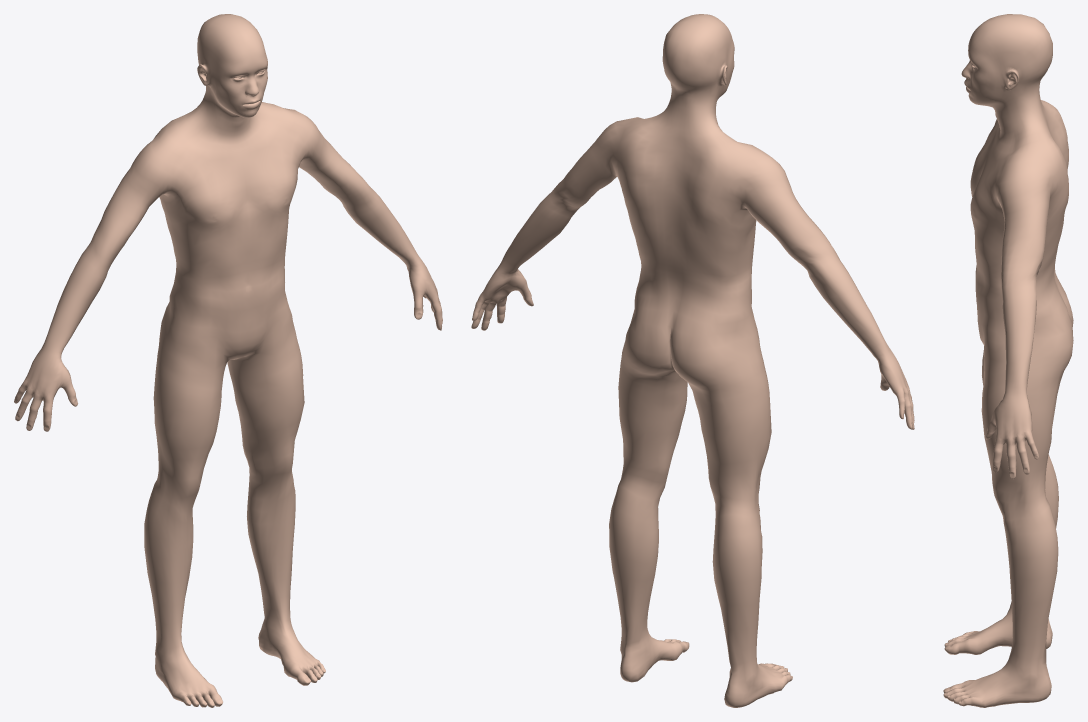
The model's file is manver2.glb.
3 renders of one model, left to right at view 1: azimuth 30°, elevation 25°; view 2: azimuth 150°, elevation 25°; view 3: azimuth 270°, elevation 25°, orthographic.
Visible parts, largest first — view 1: Man:Body; view 2: Man:Body; view 3: Man:Body.
Boxes of the visible parts, bbox=[...] form: Man:Body: bbox=[14, 14, 442, 707]; Man:Body: bbox=[471, 14, 914, 707]; Man:Body: bbox=[943, 14, 1073, 707].
Bounding box in the file's own units: 11.85 × 17.36 × 3.11.
